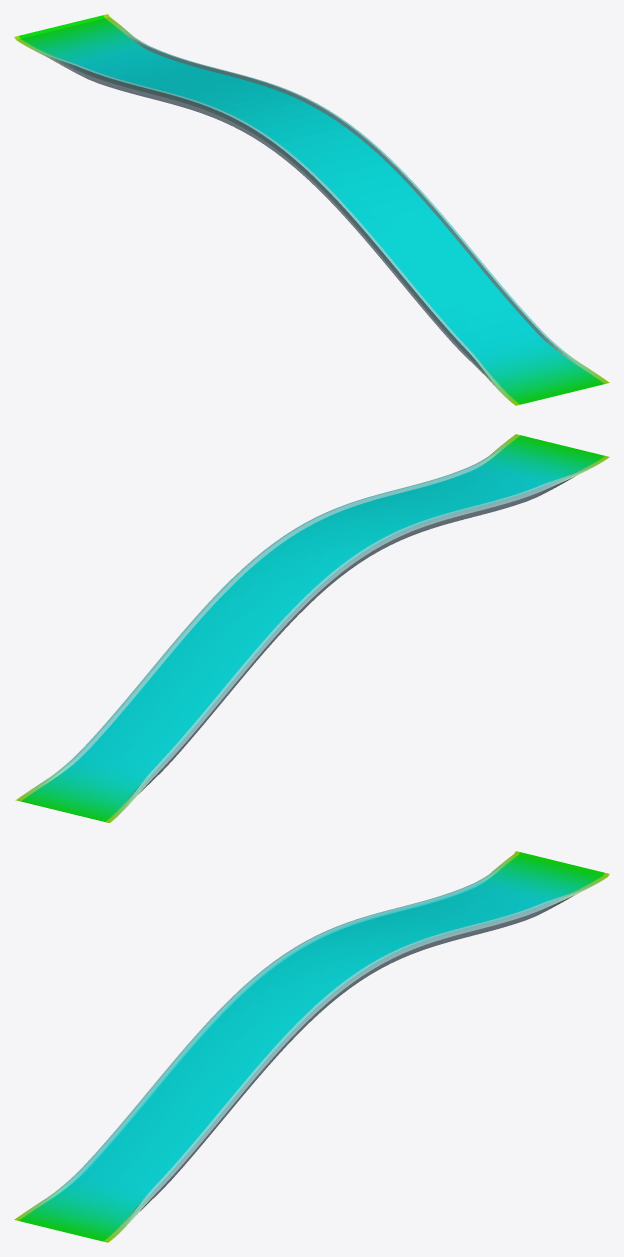
The model's file is rb_deck_sample.glb.
3 views of the same model, one above another, from view 1: azimuth 30°, elevation 25°; view 2: azimuth 150°, elevation 25°; view 3: azimuth 330°, elevation 25° (orthographic).
Visible parts, largest first — view 1: rainbow_bridge_deck; view 2: rainbow_bridge_deck; view 3: rainbow_bridge_deck.
Part boxes in pixels (x1=…): rainbow_bridge_deck: x1=14, y1=14, x2=609, y2=405; rainbow_bridge_deck: x1=15, y1=434, x2=609, y2=822; rainbow_bridge_deck: x1=14, y1=851, x2=609, y2=1242.
Bounding box in the file's own units: 2.6 × 2.07 × 24.
